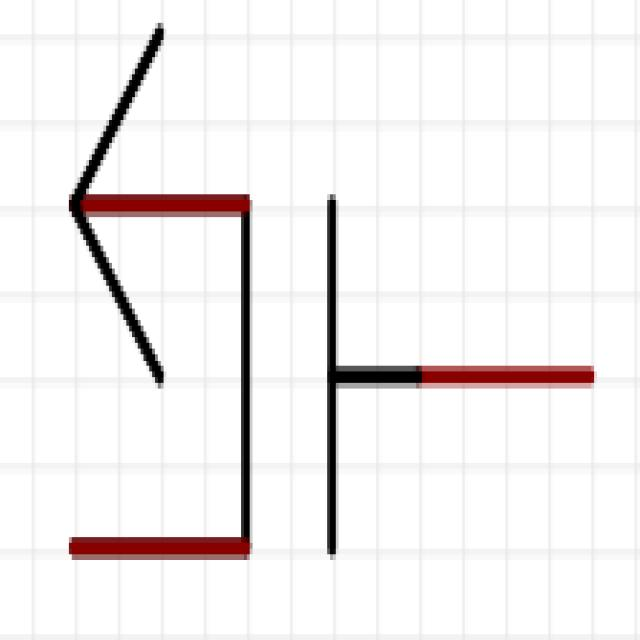nmos: (45, 22, 601, 606)
